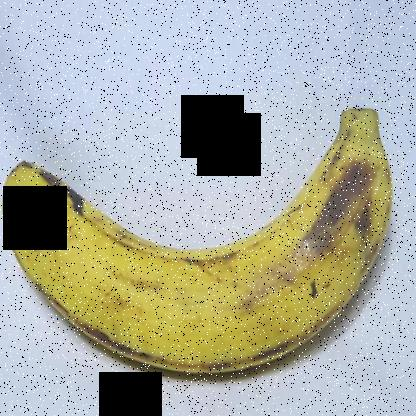overripe: (10, 95, 415, 380)
